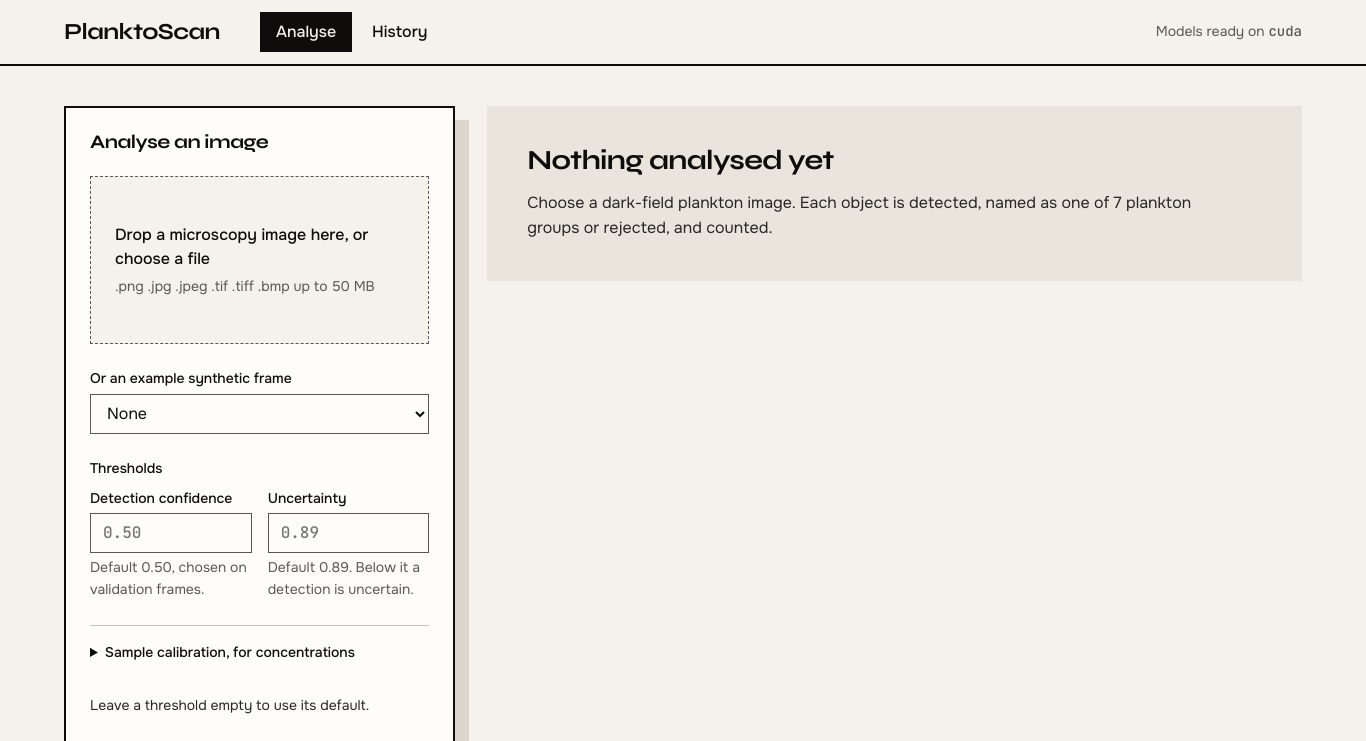
PlanktoScan app › history shows reviewed counts per analysis and the corrections export
Click the link "History". click: {"x": 400, "y": 31}
box: [372,21,427,42]
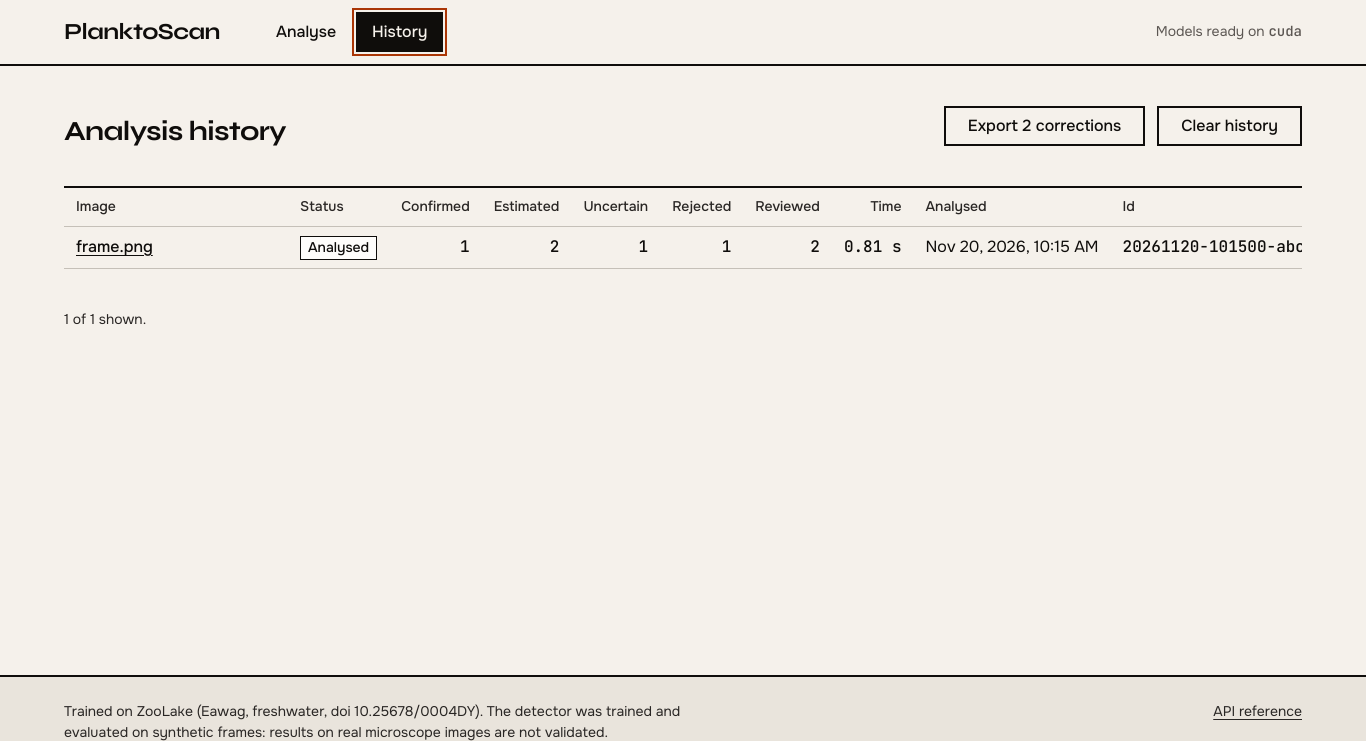
Check: the 2nd cell "2" is shown, box [743,226,832,268]
